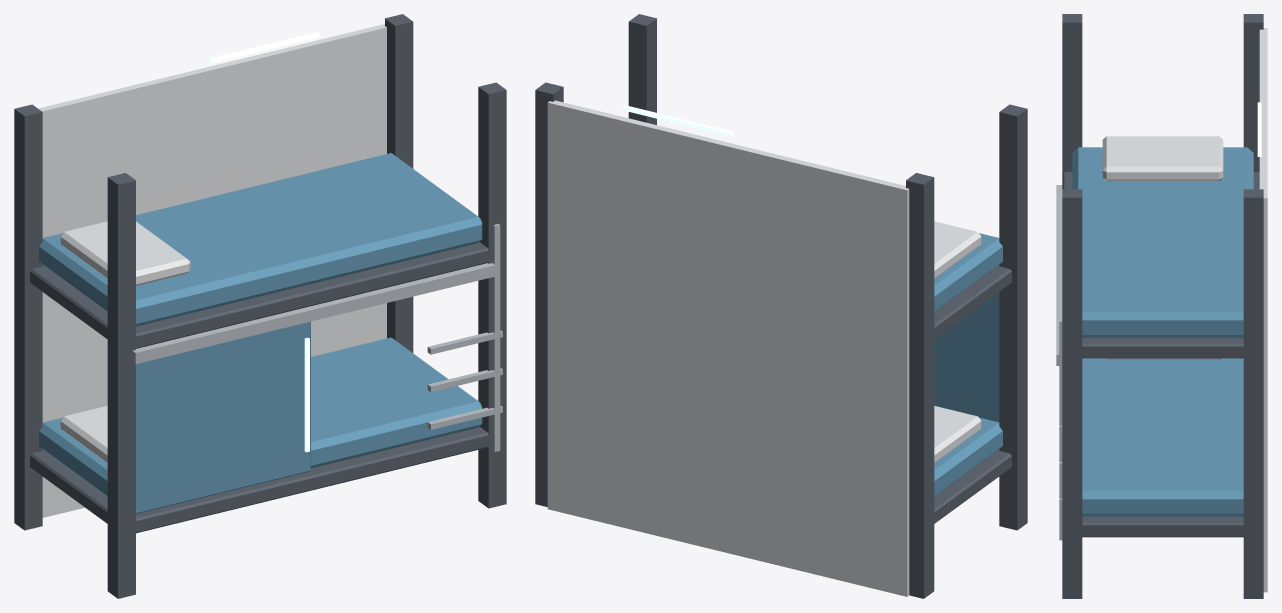
File: spaceship-deck-kit-bunk-unit-faf2cd69__12580.glb
The picture shows the model from 3 angles, left to right: view 1: azimuth 30°, elevation 25°; view 2: azimuth 150°, elevation 25°; view 3: azimuth 270°, elevation 25°; orthographic projection. The views are drawn at different scales.
Parts seen in each view (by area): view 1: bunk-unit, bunk-screen/blue, bunk-screen/glow; view 2: bunk-unit, bunk-screen/blue; view 3: bunk-unit.
Part boxes in pixels (x1=…): bunk-unit: x1=14, y1=14, x2=506, y2=598; bunk-screen/blue: x1=136, y1=321, x2=310, y2=513; bunk-screen/glow: x1=304, y1=337, x2=309, y2=452; bunk-unit: x1=535, y1=14, x2=1027, y2=598; bunk-screen/blue: x1=934, y1=292, x2=999, y2=422; bunk-unit: x1=1056, y1=14, x2=1267, y2=598.
Size of the model in its own units: 2.16 by 2.22 by 1.05.
